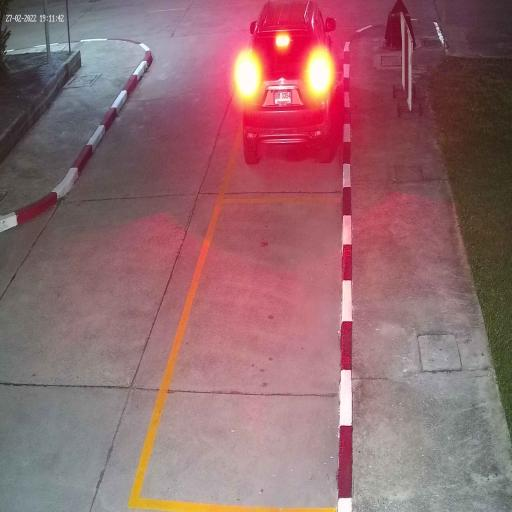car: (243, 0, 332, 166)
